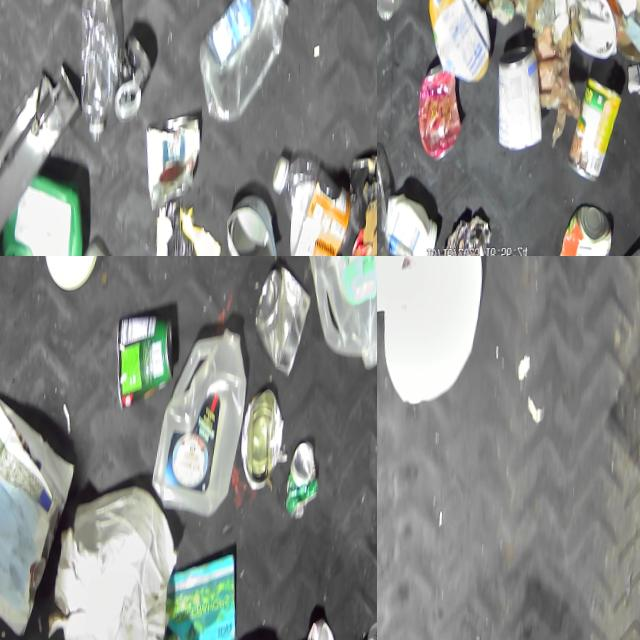can: (254, 264, 318, 381), (115, 310, 183, 418), (573, 77, 629, 186), (148, 117, 206, 213), (243, 388, 293, 496), (500, 48, 552, 151), (422, 64, 468, 163), (231, 194, 288, 256), (118, 37, 158, 123), (289, 443, 327, 523), (563, 206, 620, 256), (309, 617, 343, 640)
milk_jug: (155, 325, 254, 522), (383, 256, 490, 406), (292, 256, 377, 377)
non_white_jug: (5, 174, 91, 256), (430, 0, 498, 83)
plastic_bottle: (200, 0, 294, 125), (275, 156, 361, 256), (80, 0, 125, 143)
